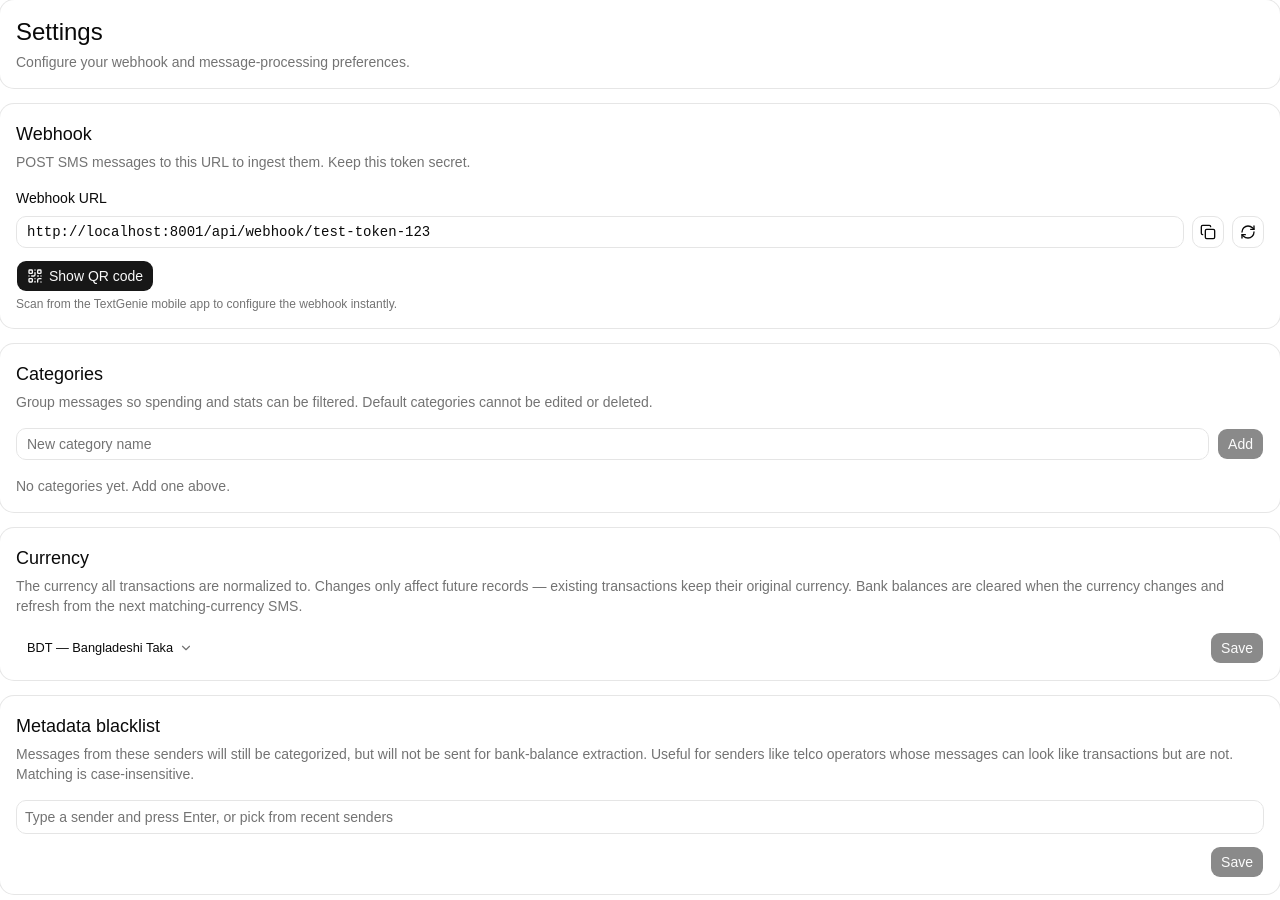
it: SettingsPage › saves a new currency and shows a success toast
Click the button with aria-label "normalized currency". click: {"x": 110, "y": 648}
box: 16,634 -> 204,662
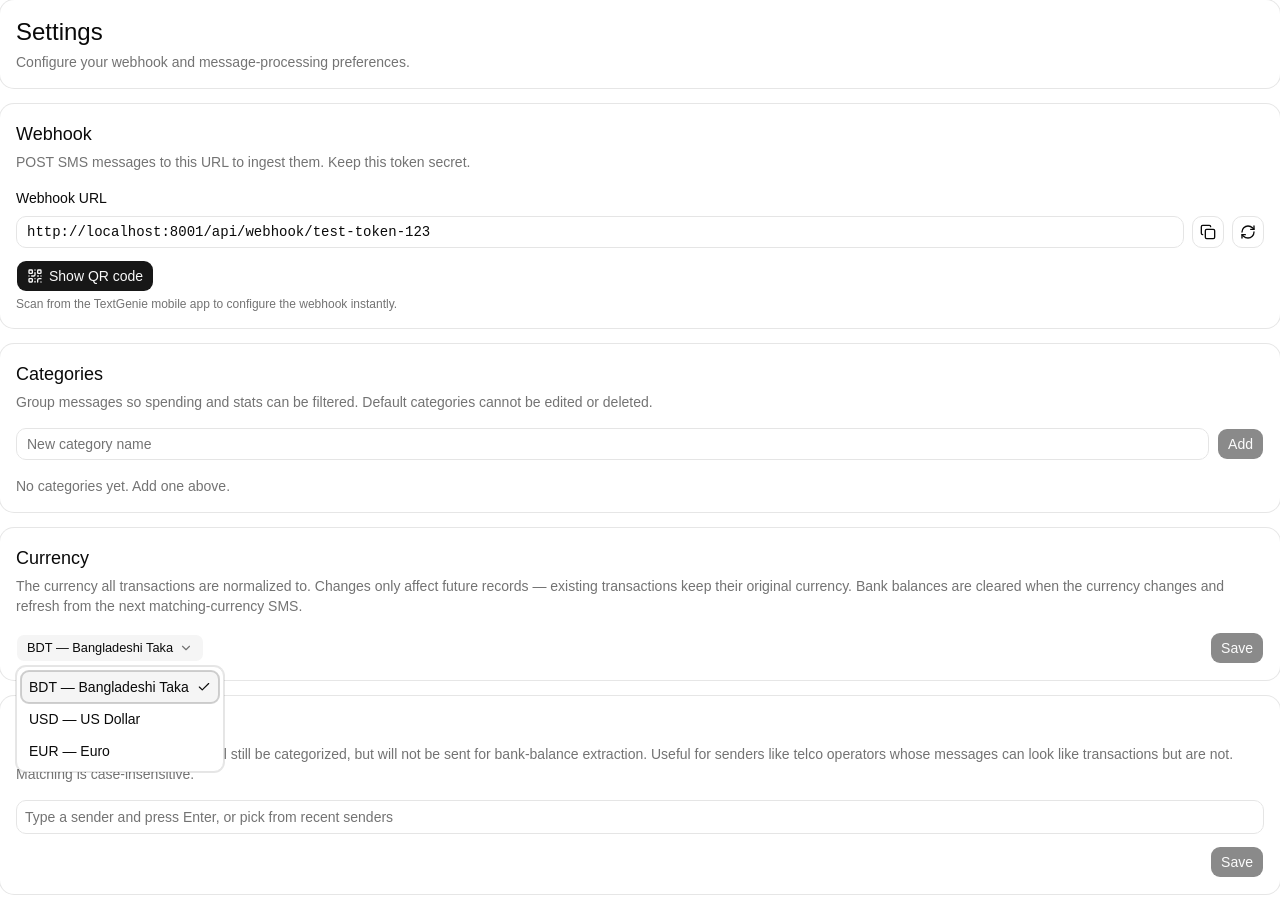
Click the button "USD — US Dollar". click: {"x": 120, "y": 719}
box: 21,703 -> 219,735
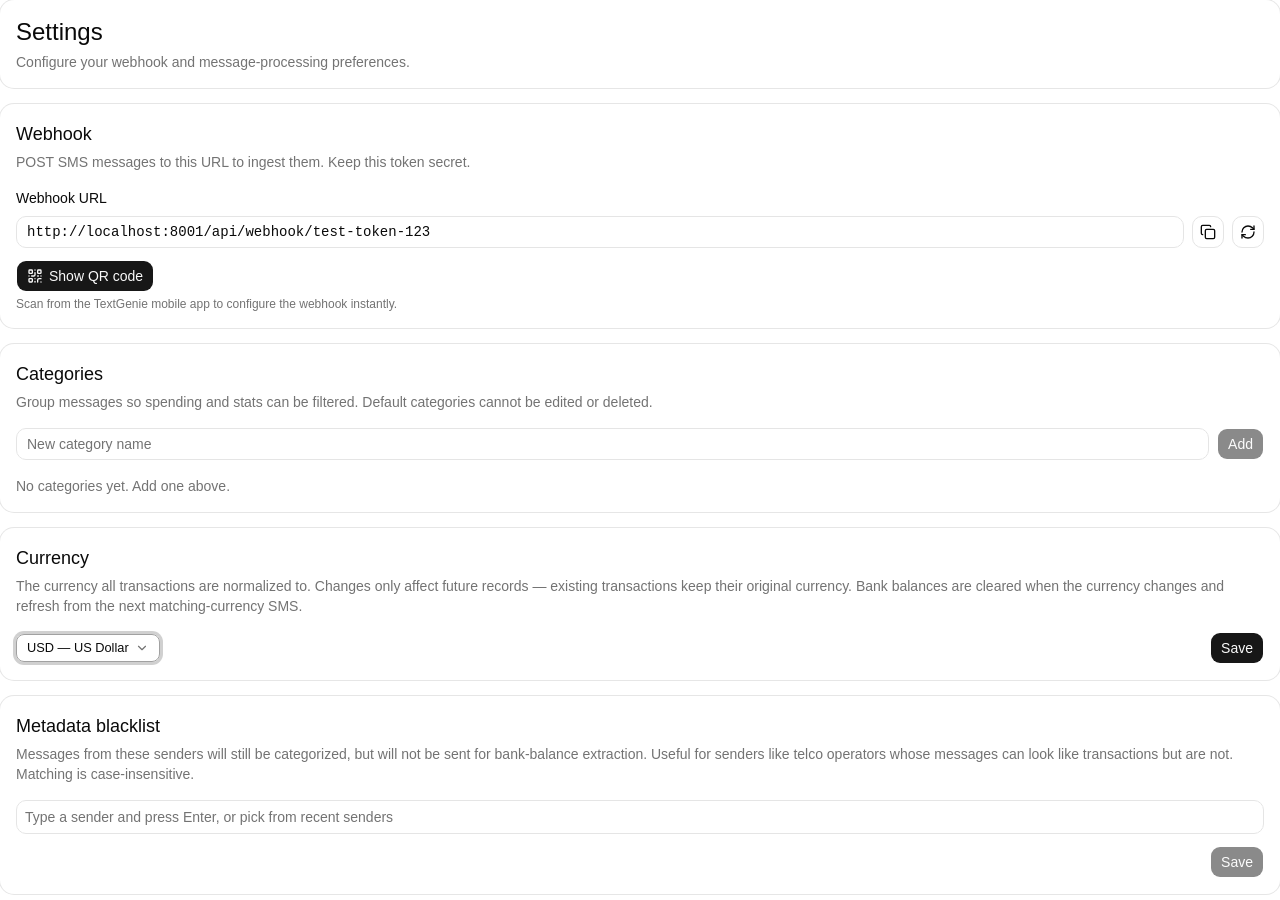
Click the button with aria-label "Save currency". click: {"x": 1237, "y": 648}
box: 1210,632 -> 1264,664
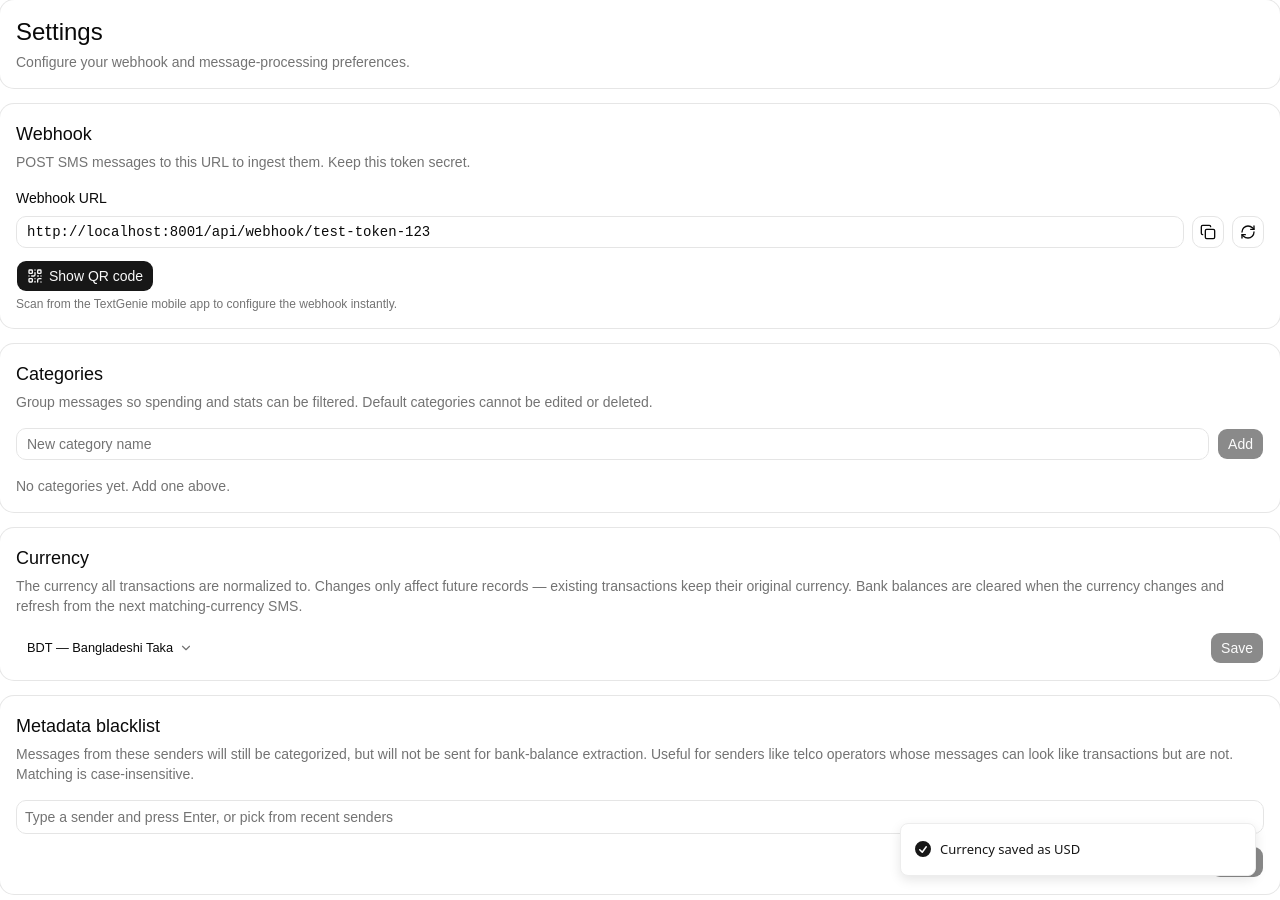
Result: the text "Currency saved as USD" is shown at 940,840 -> 1080,859
